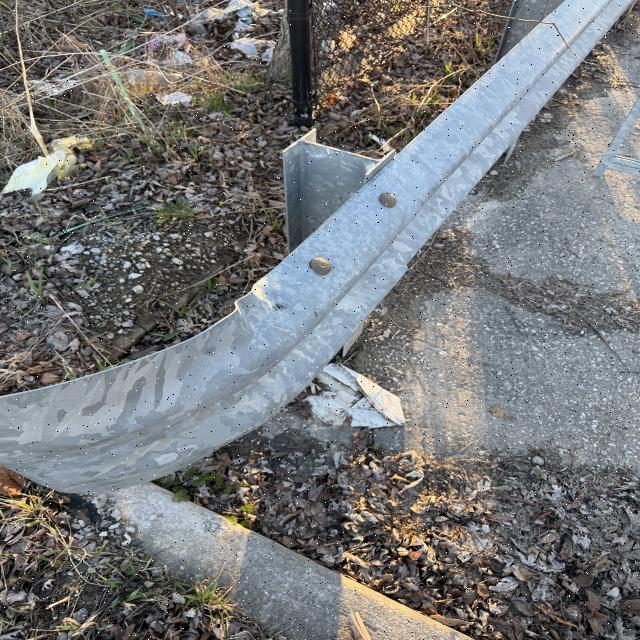Guard rail: (31, 84, 602, 464)
